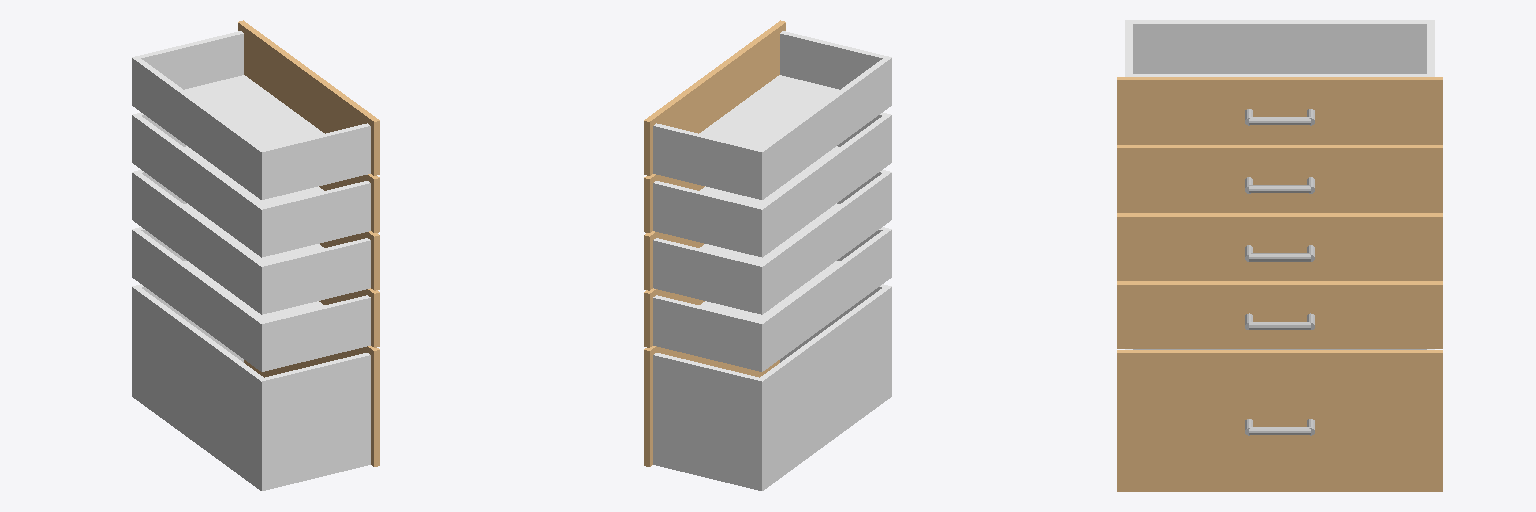
URDF robot description (room610-shelf0):
<?xml version="1.0"?>
<robot name="room610-shelf0"
       xmlns:xi="http://www.w3.org/2001/XInclude"
       xmlns:gazebo="http://playerstage.sourceforge.net/gazebo/xmlschema/#gz"
       xmlns:model="http://playerstage.sourceforge.net/gazebo/xmlschema/#model"
       xmlns:sensor="http://playerstage.sourceforge.net/gazebo/xmlschema/#sensor"
       xmlns:body="http://playerstage.sourceforge.net/gazebo/xmlschema/#body"
       xmlns:geom="http://playerstage.sourceforge.net/gazebo/xmlschema/#geom"
       xmlns:joint="http://playerstage.sourceforge.net/gazebo/xmlschema/#joint"
       xmlns:interface="http://playerstage.sourceforge.net/gazebo/xmlschema/#interface"
       xmlns:rendering="http://playerstage.sourceforge.net/gazebo/xmlschema/#rendering"
       xmlns:renderable="http://playerstage.sourceforge.net/gazebo/xmlschema/#renderable"
       xmlns:controller="http://playerstage.sourceforge.net/gazebo/xmlschema/#controller"
       xmlns:physics="http://playerstage.sourceforge.net/gazebo/xmlschema/#physics">
  <gazebo>
    <static>false</static>
  </gazebo>
  <link name="ROOT_link">
    <visual>
      <origin xyz="0 0 0" rpy="0 -0 0"/>
      <geometry>
        <mesh filename="model://room610-shelf0/meshes/ROOT_link_mesh.dae" scale="1 1 1" />
      </geometry>
    </visual>
    <collision>
      <origin xyz="0 0 0" rpy="0 -0 0"/>
      <geometry>
        <mesh filename="model://room610-shelf0/meshes/ROOT_link_mesh.dae" scale="1 1 1" />
      </geometry>
    </collision>
    <inertial>
      <mass value="0.001" />
      <origin xyz="0 0 0" rpy="0 -0 0"/>
      <inertia ixx="1e-09" ixy="0" ixz="0" iyy="1e-09" iyz="0" izz="1e-09"/>
    </inertial>
  </link>
  <gazebo reference="ROOT_link">
    <mu1>0.9</mu1>
    <mu2>0.9</mu2>
  </gazebo>
  <link name="ROOM610-SHELF0-BODYSET6_link">
    <visual>
      <origin xyz="0.0055 0 0.175" rpy="0 -0 0"/>
      <geometry>
        <mesh filename="model://room610-shelf0/meshes/ROOM610-SHELF0-BODYSET6_link_mesh.dae" scale="1 1 1" />
      </geometry>
    </visual>
    <collision>
      <origin xyz="0.0055 0 0.175" rpy="0 -0 0"/>
      <geometry>
        <mesh filename="model://room610-shelf0/meshes/ROOM610-SHELF0-BODYSET6_link_mesh.dae" scale="1 1 1" />
      </geometry>
    </collision>
    <inertial>
      <mass value="0.001" />
      <origin xyz="0 0 0" rpy="0 -0 0"/>
      <inertia ixx="1e-09" ixy="0" ixz="0" iyy="1e-09" iyz="0" izz="1e-09"/>
    </inertial>
  </link>
  <gazebo reference="ROOM610-SHELF0-BODYSET6_link">
    <mu1>0.9</mu1>
    <mu2>0.9</mu2>
  </gazebo>
  <link name="ROOM610-SHELF0-BODYSET5_link">
    <visual>
      <origin xyz="0.0055 0 0.45625" rpy="0 -0 0"/>
      <geometry>
        <mesh filename="model://room610-shelf0/meshes/ROOM610-SHELF0-BODYSET5_link_mesh.dae" scale="1 1 1" />
      </geometry>
    </visual>
    <collision>
      <origin xyz="0.0055 0 0.45625" rpy="0 -0 0"/>
      <geometry>
        <mesh filename="model://room610-shelf0/meshes/ROOM610-SHELF0-BODYSET5_link_mesh.dae" scale="1 1 1" />
      </geometry>
    </collision>
    <inertial>
      <mass value="0.001" />
      <origin xyz="0 0 0" rpy="0 -0 0"/>
      <inertia ixx="1e-09" ixy="0" ixz="0" iyy="1e-09" iyz="0" izz="1e-09"/>
    </inertial>
  </link>
  <gazebo reference="ROOM610-SHELF0-BODYSET5_link">
    <mu1>0.9</mu1>
    <mu2>0.9</mu2>
  </gazebo>
  <link name="ROOM610-SHELF0-BODYSET4_link">
    <visual>
      <origin xyz="0.0055 0 0.63875" rpy="0 -0 0"/>
      <geometry>
        <mesh filename="model://room610-shelf0/meshes/ROOM610-SHELF0-BODYSET4_link_mesh.dae" scale="1 1 1" />
      </geometry>
    </visual>
    <collision>
      <origin xyz="0.0055 0 0.63875" rpy="0 -0 0"/>
      <geometry>
        <mesh filename="model://room610-shelf0/meshes/ROOM610-SHELF0-BODYSET4_link_mesh.dae" scale="1 1 1" />
      </geometry>
    </collision>
    <inertial>
      <mass value="0.001" />
      <origin xyz="0 0 0" rpy="0 -0 0"/>
      <inertia ixx="1e-09" ixy="0" ixz="0" iyy="1e-09" iyz="0" izz="1e-09"/>
    </inertial>
  </link>
  <gazebo reference="ROOM610-SHELF0-BODYSET4_link">
    <mu1>0.9</mu1>
    <mu2>0.9</mu2>
  </gazebo>
  <link name="ROOM610-SHELF0-BODYSET3_link">
    <visual>
      <origin xyz="0.0055 0 0.82125" rpy="0 -0 0"/>
      <geometry>
        <mesh filename="model://room610-shelf0/meshes/ROOM610-SHELF0-BODYSET3_link_mesh.dae" scale="1 1 1" />
      </geometry>
    </visual>
    <collision>
      <origin xyz="0.0055 0 0.82125" rpy="0 -0 0"/>
      <geometry>
        <mesh filename="model://room610-shelf0/meshes/ROOM610-SHELF0-BODYSET3_link_mesh.dae" scale="1 1 1" />
      </geometry>
    </collision>
    <inertial>
      <mass value="0.001" />
      <origin xyz="0 0 0" rpy="0 -0 0"/>
      <inertia ixx="1e-09" ixy="0" ixz="0" iyy="1e-09" iyz="0" izz="1e-09"/>
    </inertial>
  </link>
  <gazebo reference="ROOM610-SHELF0-BODYSET3_link">
    <mu1>0.9</mu1>
    <mu2>0.9</mu2>
  </gazebo>
  <link name="ROOM610-SHELF0-BODYSET2_link">
    <visual>
      <origin xyz="0.0055 0 1.00375" rpy="0 -0 0"/>
      <geometry>
        <mesh filename="model://room610-shelf0/meshes/ROOM610-SHELF0-BODYSET2_link_mesh.dae" scale="1 1 1" />
      </geometry>
    </visual>
    <collision>
      <origin xyz="0.0055 0 1.00375" rpy="0 -0 0"/>
      <geometry>
        <mesh filename="model://room610-shelf0/meshes/ROOM610-SHELF0-BODYSET2_link_mesh.dae" scale="1 1 1" />
      </geometry>
    </collision>
    <inertial>
      <mass value="0.001" />
      <origin xyz="0 0 0" rpy="0 -0 0"/>
      <inertia ixx="1e-09" ixy="0" ixz="0" iyy="1e-09" iyz="0" izz="1e-09"/>
    </inertial>
  </link>
  <gazebo reference="ROOM610-SHELF0-BODYSET2_link">
    <mu1>0.9</mu1>
    <mu2>0.9</mu2>
  </gazebo>
  <joint name="DRAWER0" type="prismatic">
    <parent link="ROOT_link"/>
    <child  link="ROOM610-SHELF0-BODYSET6_link"/>
    <origin xyz="0.0055 0 0.175" rpy="0 -0 0 "/>
    <axis   xyz="1 0 0"/>
    <limit lower="0" upper="0.405" effort="100" velocity="0.01" />
    <dynamics damping="0.2" friction="0" />
  </joint>
  <transmission type="pr2_mechanism_model/SimpleTransmission" name="DRAWER0_trans" >
    <actuator name="DRAWER0_motor" />
    <joint name="DRAWER0" />
    <mechanicalReduction>1</mechanicalReduction>
  </transmission>
  <gazebo reference="DRAWER0">
    <cfmDamping>0.4</cfmDamping>
  </gazebo>
  <joint name="DRAWER1" type="prismatic">
    <parent link="ROOT_link"/>
    <child  link="ROOM610-SHELF0-BODYSET5_link"/>
    <origin xyz="0.0055 0 0.45625" rpy="0 -0 0 "/>
    <axis   xyz="1 0 0"/>
    <limit lower="0" upper="0.405" effort="100" velocity="0.01" />
    <dynamics damping="0.2" friction="0" />
  </joint>
  <transmission type="pr2_mechanism_model/SimpleTransmission" name="DRAWER1_trans" >
    <actuator name="DRAWER1_motor" />
    <joint name="DRAWER1" />
    <mechanicalReduction>1</mechanicalReduction>
  </transmission>
  <gazebo reference="DRAWER1">
    <cfmDamping>0.4</cfmDamping>
  </gazebo>
  <joint name="DRAWER2" type="prismatic">
    <parent link="ROOT_link"/>
    <child  link="ROOM610-SHELF0-BODYSET4_link"/>
    <origin xyz="0.0055 0 0.63875" rpy="0 -0 0 "/>
    <axis   xyz="1 0 0"/>
    <limit lower="0" upper="0.405" effort="100" velocity="0.01" />
    <dynamics damping="0.2" friction="0" />
  </joint>
  <transmission type="pr2_mechanism_model/SimpleTransmission" name="DRAWER2_trans" >
    <actuator name="DRAWER2_motor" />
    <joint name="DRAWER2" />
    <mechanicalReduction>1</mechanicalReduction>
  </transmission>
  <gazebo reference="DRAWER2">
    <cfmDamping>0.4</cfmDamping>
  </gazebo>
  <joint name="DRAWER3" type="prismatic">
    <parent link="ROOT_link"/>
    <child  link="ROOM610-SHELF0-BODYSET3_link"/>
    <origin xyz="0.0055 0 0.82125" rpy="0 -0 0 "/>
    <axis   xyz="1 0 0"/>
    <limit lower="0" upper="0.405" effort="100" velocity="0.01" />
    <dynamics damping="0.2" friction="0" />
  </joint>
  <transmission type="pr2_mechanism_model/SimpleTransmission" name="DRAWER3_trans" >
    <actuator name="DRAWER3_motor" />
    <joint name="DRAWER3" />
    <mechanicalReduction>1</mechanicalReduction>
  </transmission>
  <gazebo reference="DRAWER3">
    <cfmDamping>0.4</cfmDamping>
  </gazebo>
  <joint name="DRAWER4" type="prismatic">
    <parent link="ROOT_link"/>
    <child  link="ROOM610-SHELF0-BODYSET2_link"/>
    <origin xyz="0.0055 0 1.00375" rpy="0 -0 0 "/>
    <axis   xyz="1 0 0"/>
    <limit lower="0" upper="0.405" effort="100" velocity="0.01" />
    <dynamics damping="0.2" friction="0" />
  </joint>
  <transmission type="pr2_mechanism_model/SimpleTransmission" name="DRAWER4_trans" >
    <actuator name="DRAWER4_motor" />
    <joint name="DRAWER4" />
    <mechanicalReduction>1</mechanicalReduction>
  </transmission>
  <gazebo reference="DRAWER4">
    <cfmDamping>0.4</cfmDamping>
  </gazebo>
</robot>

--- Facts derived from the render (not from the file) ---
The picture shows the robot from 3 angles, left to right: view 1: azimuth 30°, elevation 25°; view 2: azimuth 150°, elevation 25°; view 3: azimuth 270°, elevation 25°; orthographic projection.
Robot: room610-shelf0 — 6 links, 5 joints (5 prismatic); root link ROOT_link; default pose: all joints at 0.
Visible links, largest first — view 1: ROOM610-SHELF0-BODYSET6_link, ROOM610-SHELF0-BODYSET2_link, ROOM610-SHELF0-BODYSET5_link, ROOM610-SHELF0-BODYSET4_link, ROOM610-SHELF0-BODYSET3_link; view 2: ROOM610-SHELF0-BODYSET6_link, ROOM610-SHELF0-BODYSET2_link, ROOM610-SHELF0-BODYSET5_link, ROOM610-SHELF0-BODYSET4_link, ROOM610-SHELF0-BODYSET3_link; view 3: ROOM610-SHELF0-BODYSET6_link, ROOM610-SHELF0-BODYSET2_link, ROOM610-SHELF0-BODYSET5_link, ROOM610-SHELF0-BODYSET4_link, ROOM610-SHELF0-BODYSET3_link.
Link boxes in pixels (box(x1,y1,x2,y2)): ROOM610-SHELF0-BODYSET6_link: box(132, 284, 379, 490); ROOM610-SHELF0-BODYSET2_link: box(132, 20, 379, 199); ROOM610-SHELF0-BODYSET5_link: box(132, 227, 379, 371); ROOM610-SHELF0-BODYSET4_link: box(132, 170, 379, 314); ROOM610-SHELF0-BODYSET3_link: box(132, 113, 379, 257); ROOM610-SHELF0-BODYSET6_link: box(644, 284, 891, 490); ROOM610-SHELF0-BODYSET2_link: box(644, 20, 891, 199); ROOM610-SHELF0-BODYSET5_link: box(644, 227, 891, 371); ROOM610-SHELF0-BODYSET4_link: box(644, 170, 891, 314); ROOM610-SHELF0-BODYSET3_link: box(644, 113, 891, 257); ROOM610-SHELF0-BODYSET6_link: box(1117, 349, 1442, 491); ROOM610-SHELF0-BODYSET2_link: box(1117, 20, 1442, 144); ROOM610-SHELF0-BODYSET5_link: box(1117, 281, 1442, 348); ROOM610-SHELF0-BODYSET4_link: box(1117, 213, 1442, 280); ROOM610-SHELF0-BODYSET3_link: box(1117, 145, 1442, 212).
Bounding box of the posed robot: 0.4445 × 0.79 × 1.1 m (x, y, z).
5 mesh visuals loaded from 6 distinct referenced files (5 Collada DAE); not drawn: 1 (reference not matched to a file when rendering).
